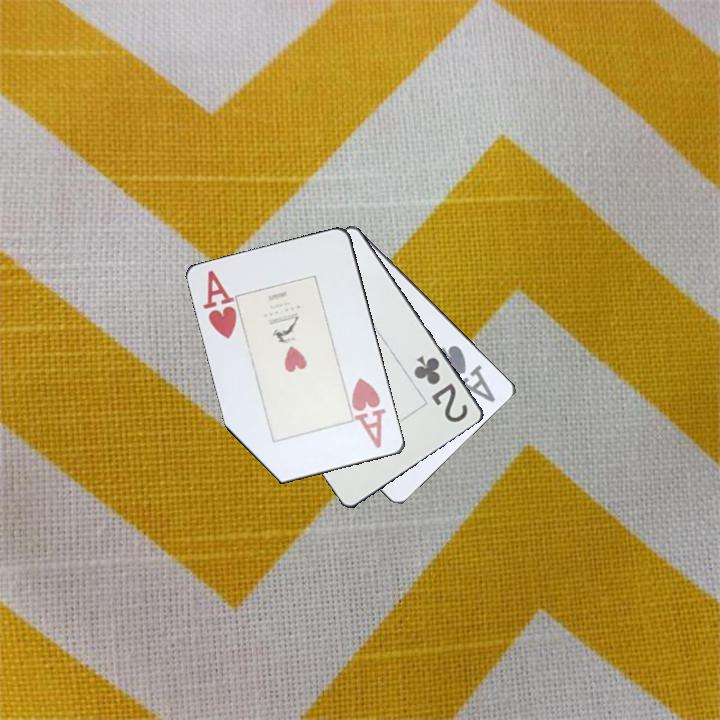2c: (410, 351, 471, 426)
Ah: (349, 374, 389, 451), (199, 267, 240, 342)
As: (434, 341, 499, 406)
